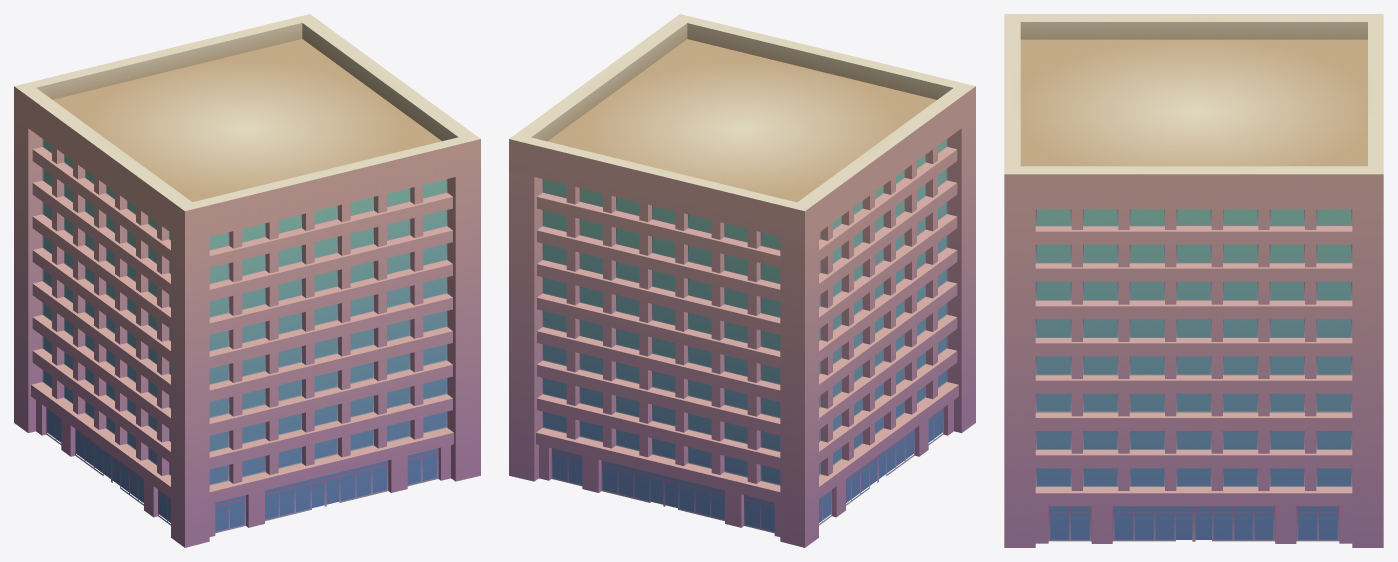
3 renders of one model, left to right at view 1: azimuth 30°, elevation 25°; view 2: azimuth 150°, elevation 25°; view 3: azimuth 270°, elevation 25°, orthographic. The views are drawn at different scales.
Parts seen in each view (by area): view 1: SM_9F_01; view 2: SM_9F_01; view 3: SM_9F_01.
Boxes of the visible parts, <box> form: SM_9F_01: <box>14,14,480,547</box>; SM_9F_01: <box>509,14,975,547</box>; SM_9F_01: <box>1004,14,1383,547</box>.
Bounding box in the file's own units: 28.05 × 28.05 × 30.51.
